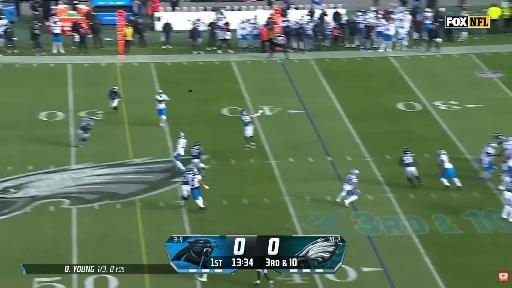Helmet: (488, 141, 498, 148), (494, 133, 503, 138), (403, 147, 410, 153), (438, 150, 446, 155), (351, 170, 359, 175), (179, 132, 185, 138), (88, 116, 94, 122), (424, 8, 431, 13), (240, 110, 247, 114), (192, 168, 197, 173), (158, 90, 163, 94), (186, 168, 191, 172), (112, 86, 118, 89), (195, 141, 199, 145), (507, 137, 511, 141)
Jersey: (438, 154, 456, 178), (438, 154, 454, 169), (343, 174, 358, 190), (480, 146, 495, 161), (79, 118, 94, 133), (400, 153, 415, 167), (175, 138, 187, 155), (155, 94, 168, 109), (401, 14, 411, 33), (238, 20, 249, 37), (188, 174, 201, 188), (502, 141, 511, 160), (192, 18, 205, 31), (190, 145, 202, 159), (240, 114, 252, 126), (216, 11, 226, 25), (109, 88, 120, 100), (423, 12, 433, 25), (324, 21, 334, 34), (305, 21, 314, 35), (384, 24, 395, 35), (376, 19, 386, 31), (251, 19, 259, 34), (183, 172, 190, 185), (497, 136, 508, 144), (506, 182, 511, 192)
Player: (438, 150, 462, 189), (399, 148, 423, 187), (336, 170, 360, 207), (188, 168, 209, 209), (240, 110, 262, 149), (479, 141, 498, 179), (173, 132, 187, 172), (494, 133, 509, 169), (396, 14, 411, 50), (378, 20, 395, 51), (77, 117, 94, 147), (155, 90, 169, 126), (498, 158, 511, 190), (190, 142, 204, 170), (374, 15, 386, 47), (422, 8, 434, 40), (181, 168, 191, 206), (502, 183, 511, 222), (501, 138, 511, 173), (254, 270, 273, 287), (109, 86, 121, 111), (494, 133, 507, 144), (458, 28, 468, 41), (198, 274, 207, 282)
